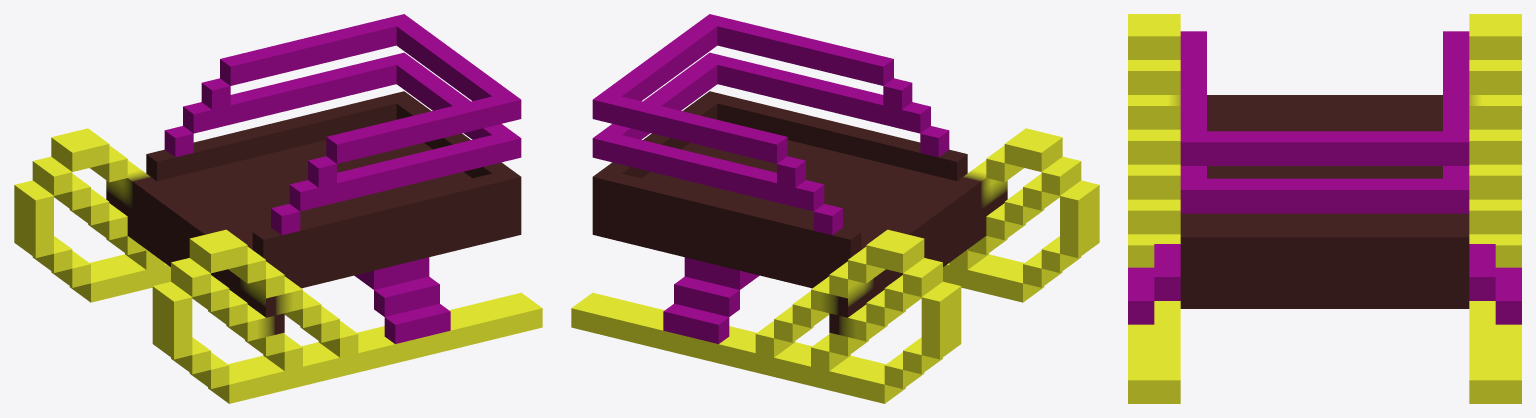
File: Vehicle_14.fbx
3 renders of one model, left to right at view 1: azimuth 30°, elevation 25°; view 2: azimuth 150°, elevation 25°; view 3: azimuth 270°, elevation 25°, orthographic. The views are drawn at different scales.
Parts seen in each view (by area): view 1: Vehicle_14; view 2: Vehicle_14; view 3: Vehicle_14.
Part boxes in pixels (bbox=[...]): Vehicle_14: bbox=[14, 14, 542, 403]; Vehicle_14: bbox=[571, 14, 1099, 403]; Vehicle_14: bbox=[1128, 14, 1521, 403].
Size of the model in its own units: 20 by 11 by 15.
Materials: 1 (1 with a texture image).
